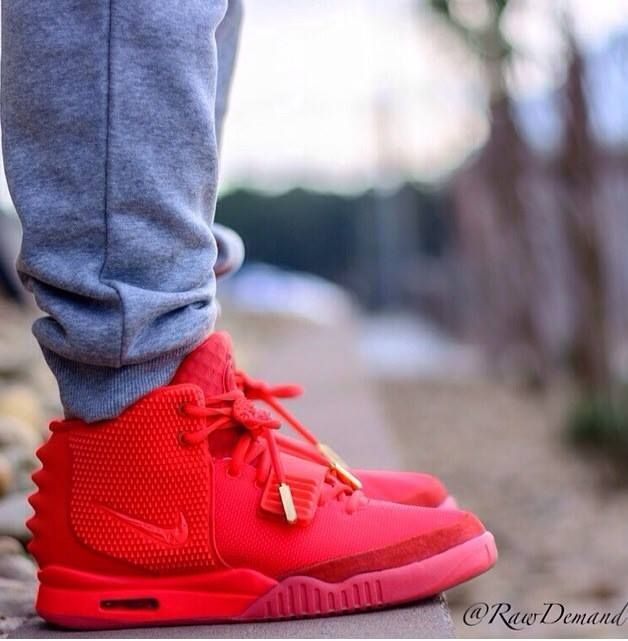Yeezy Red October: (26, 324, 506, 625)
